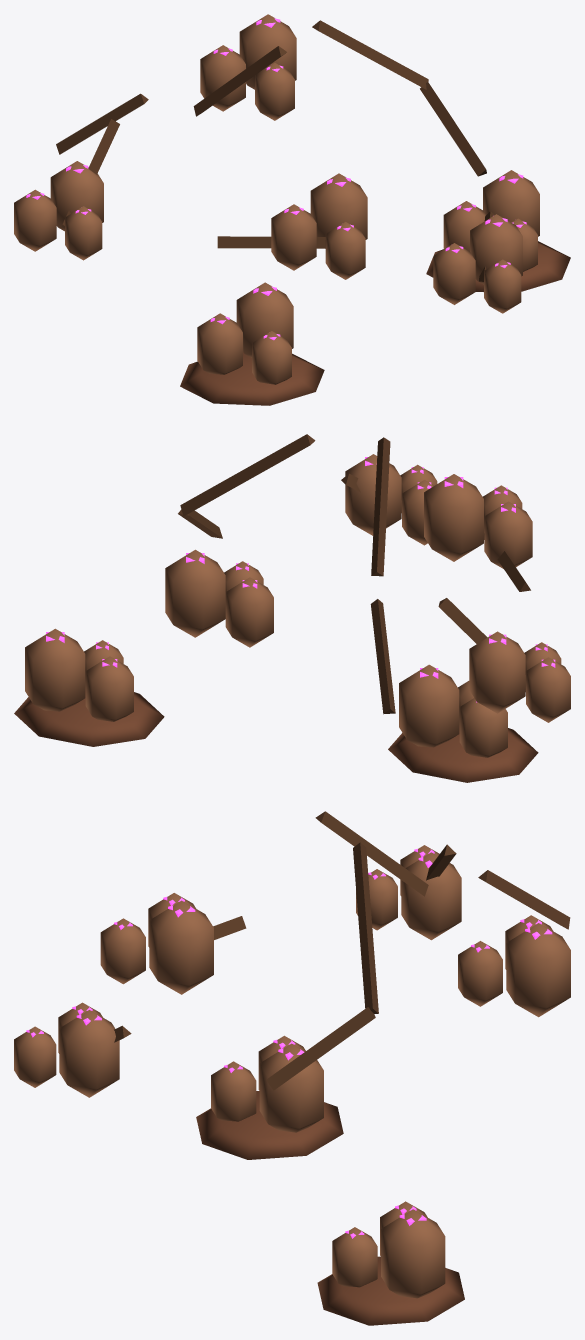
The model's file is overworld-settlement-eggs-european-city.glb.
3 views of the same model, one above another, from view 1: azimuth 30°, elevation 25°; view 2: azimuth 150°, elevation 25°; view 3: azimuth 270°, elevation 25° (orthographic). The views are drawn at different scales.
Visible parts, largest first — view 1: settlement_eggs; view 2: settlement_eggs; view 3: settlement_eggs.
Part boxes in pixels (x1,y1,x2,y2): settlement_eggs: (14, 14, 570, 405); settlement_eggs: (14, 434, 570, 782); settlement_eggs: (14, 811, 570, 1325).
Size of the model in its own units: 0.5386 by 0.2939 by 0.433.
